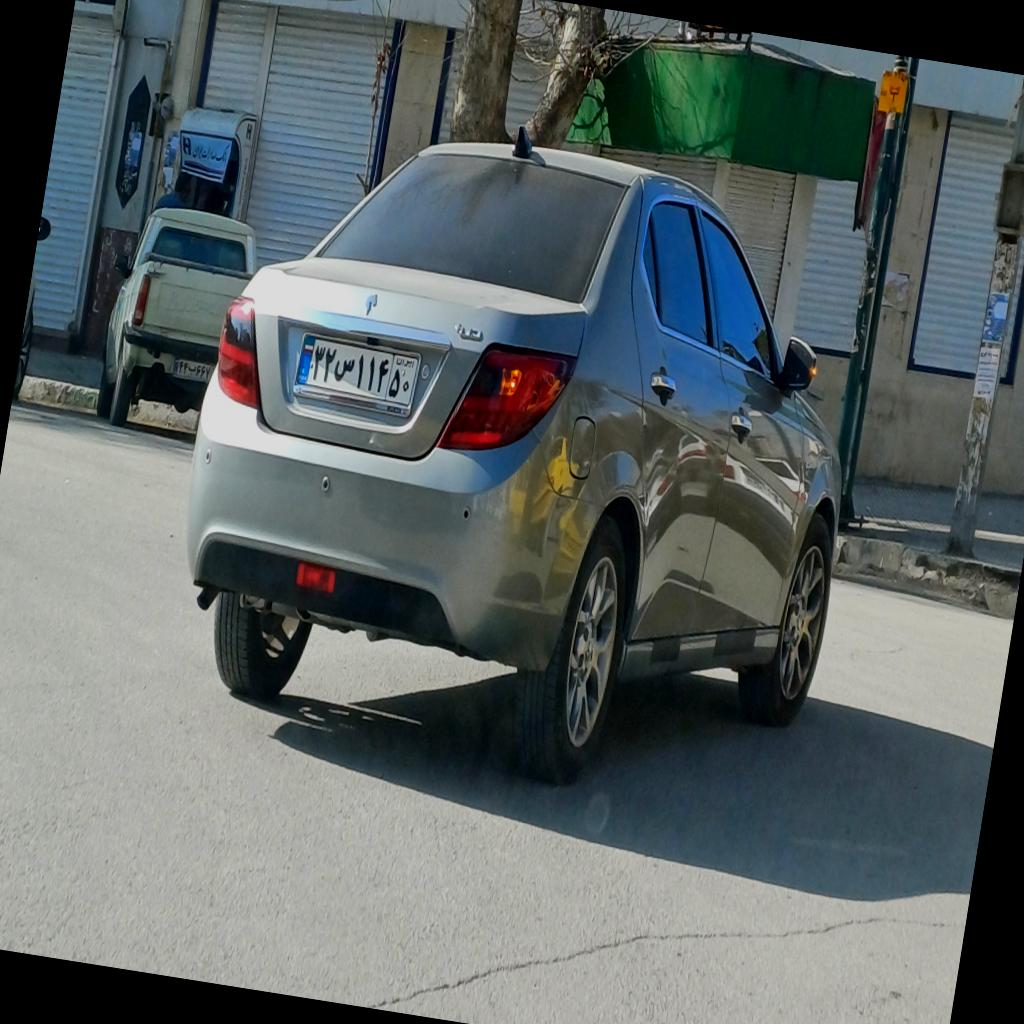Plates: (294, 328, 422, 410)
